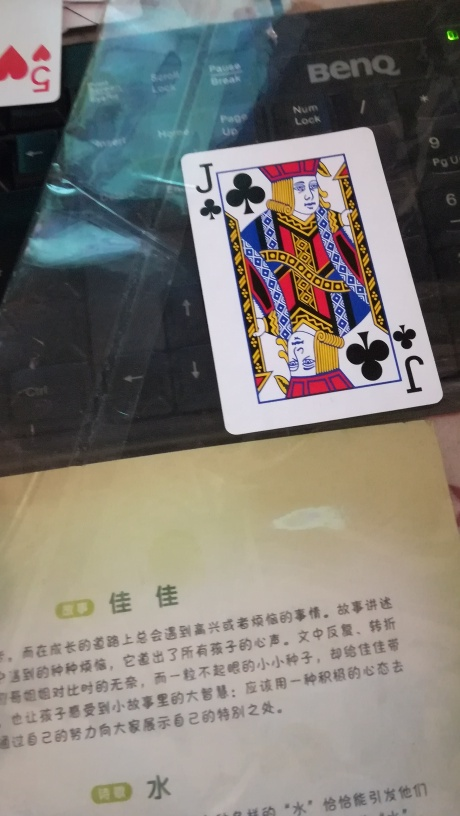hx 5: (3, 1, 138, 213)
mh j: (176, 121, 443, 436)
